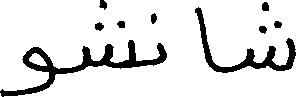X: (84, 0, 133, 73), (248, 0, 295, 75), (0, 42, 54, 96), (198, 2, 210, 71), (157, 38, 165, 68)
